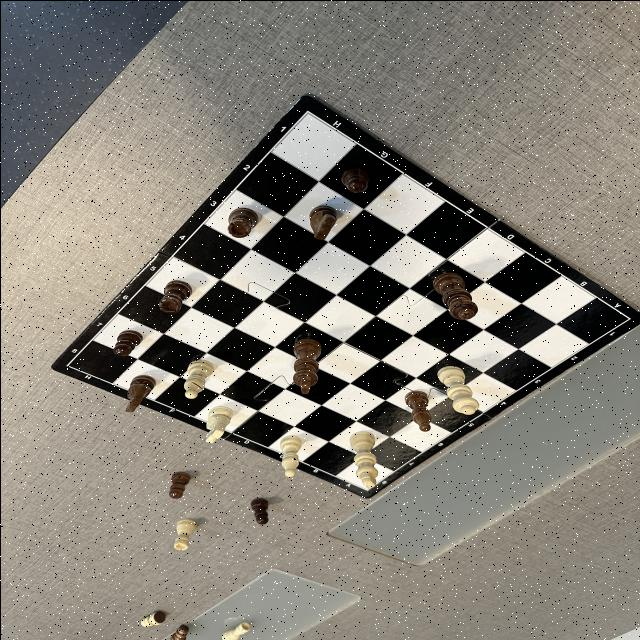Black-Bishop: (403, 389, 430, 431)
Black-King: (292, 337, 320, 393)
Black-Knight: (125, 375, 155, 411), (308, 205, 336, 238)
Black-Pawn: (112, 329, 142, 355), (339, 166, 368, 192), (168, 470, 189, 498), (250, 498, 267, 524), (170, 624, 188, 640)
Black-Queen: (431, 272, 477, 318)
Black-Rook: (158, 280, 190, 312), (226, 207, 256, 237)
White-Bishop: (183, 358, 214, 398), (279, 434, 300, 476)
White-King: (348, 430, 378, 488)
White-Knight: (204, 404, 232, 442)
White-Pawn: (140, 610, 166, 626)
White-Queen: (436, 366, 478, 414)
White-Rook: (173, 518, 197, 550), (221, 622, 249, 640)
